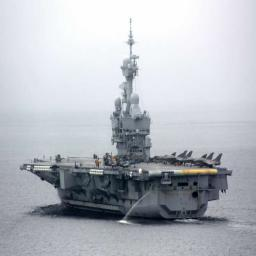Portanaves: (19, 16, 235, 229)
